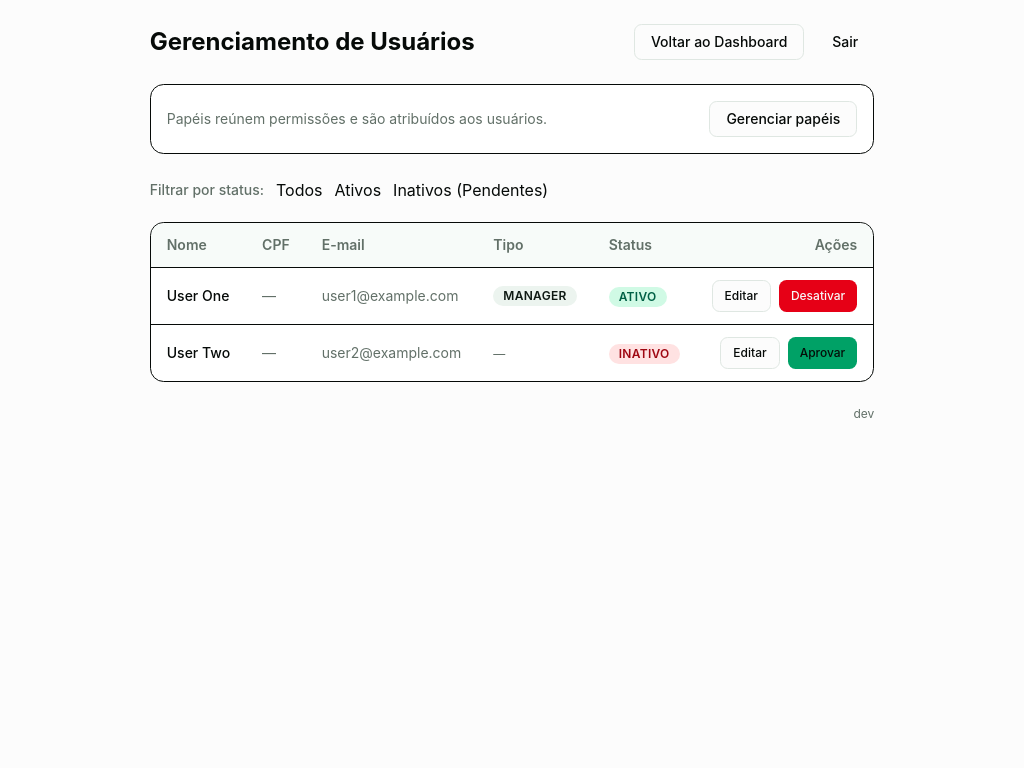
Test: AdminUserDashboard › pre-fills type checkboxes when user has types
The width and height of the screenshot is (1024, 768).
Expected: the text "User One" is shown, [151,268,246,324]
Step 1. Click the button "Editar" in the row of "User One" → (741, 296), box [712,280,771,312]
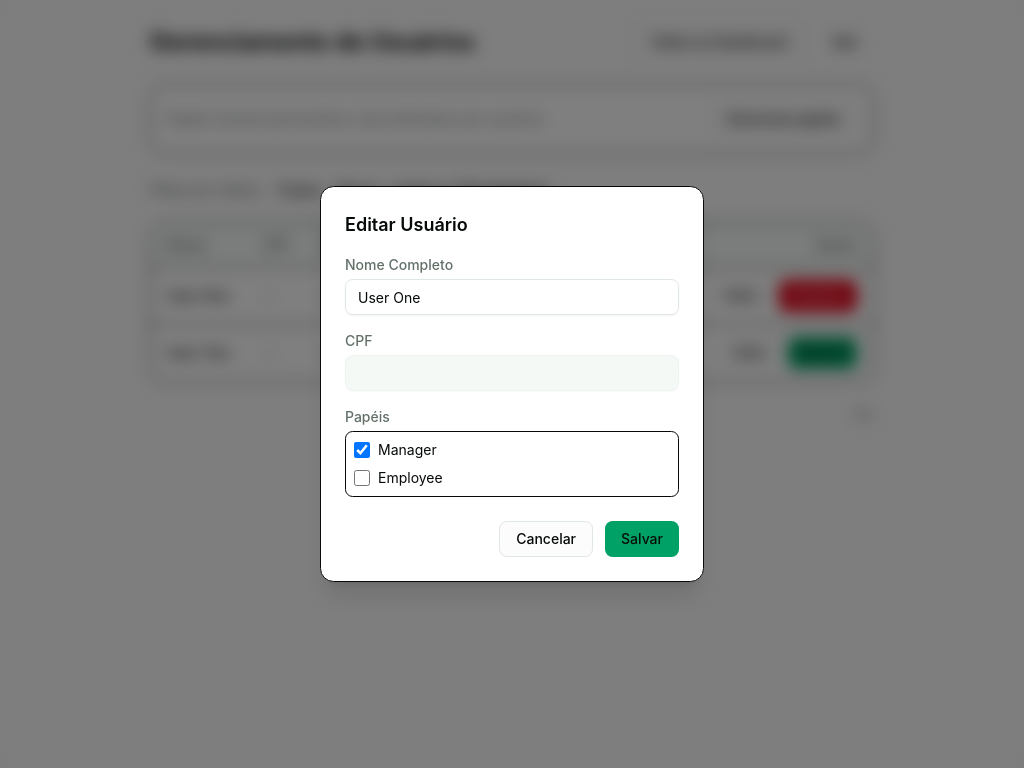
Result: the checkbox labelled "Manager" is checked at [354,442,370,458]
